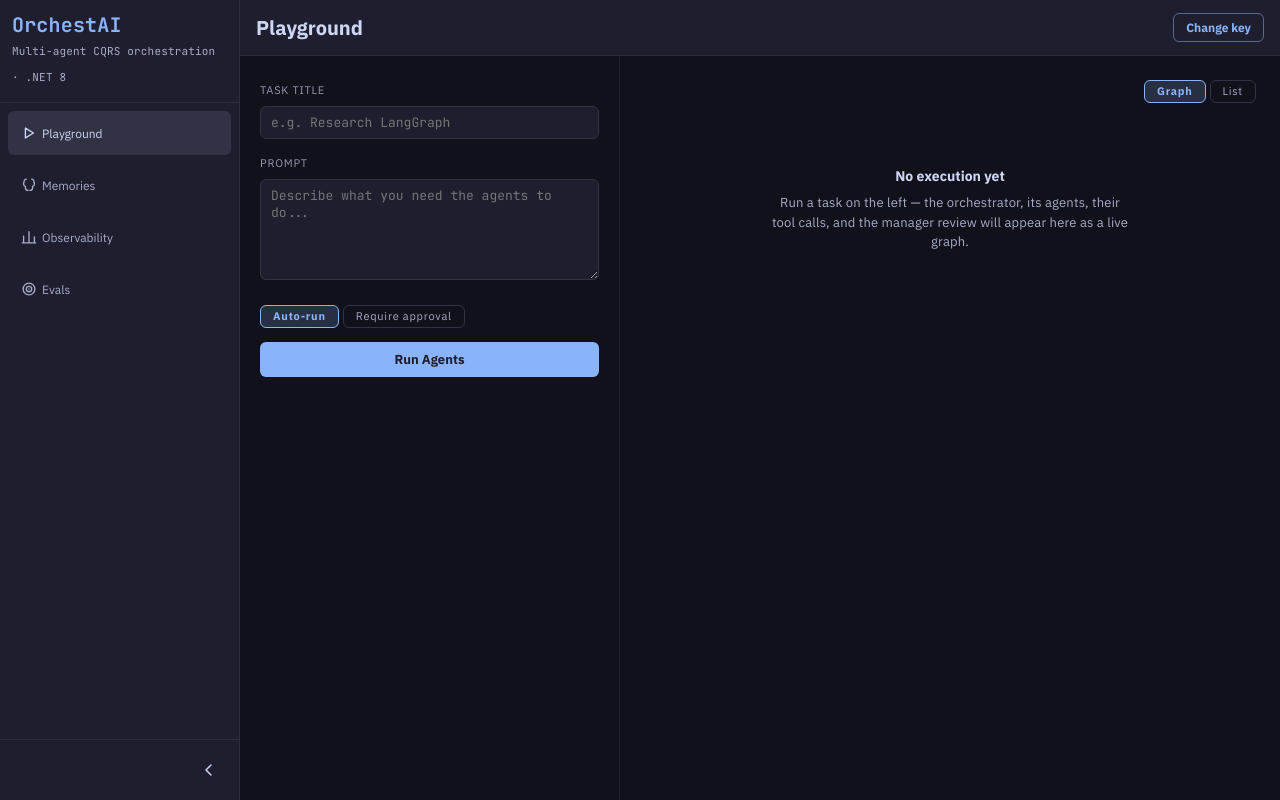
App — Playground Graph/List toggle + Observability handoff (P2-M5) › defaults to the Graph view and toggles to the List result view (state preserved)
expect the heading "No execution yet" is shown: met, box [895, 167, 1005, 185]
expect the text "No results yet" is not shown: met
Click the radio button labelled "List" at (1233, 92), box [1210, 80, 1256, 103]
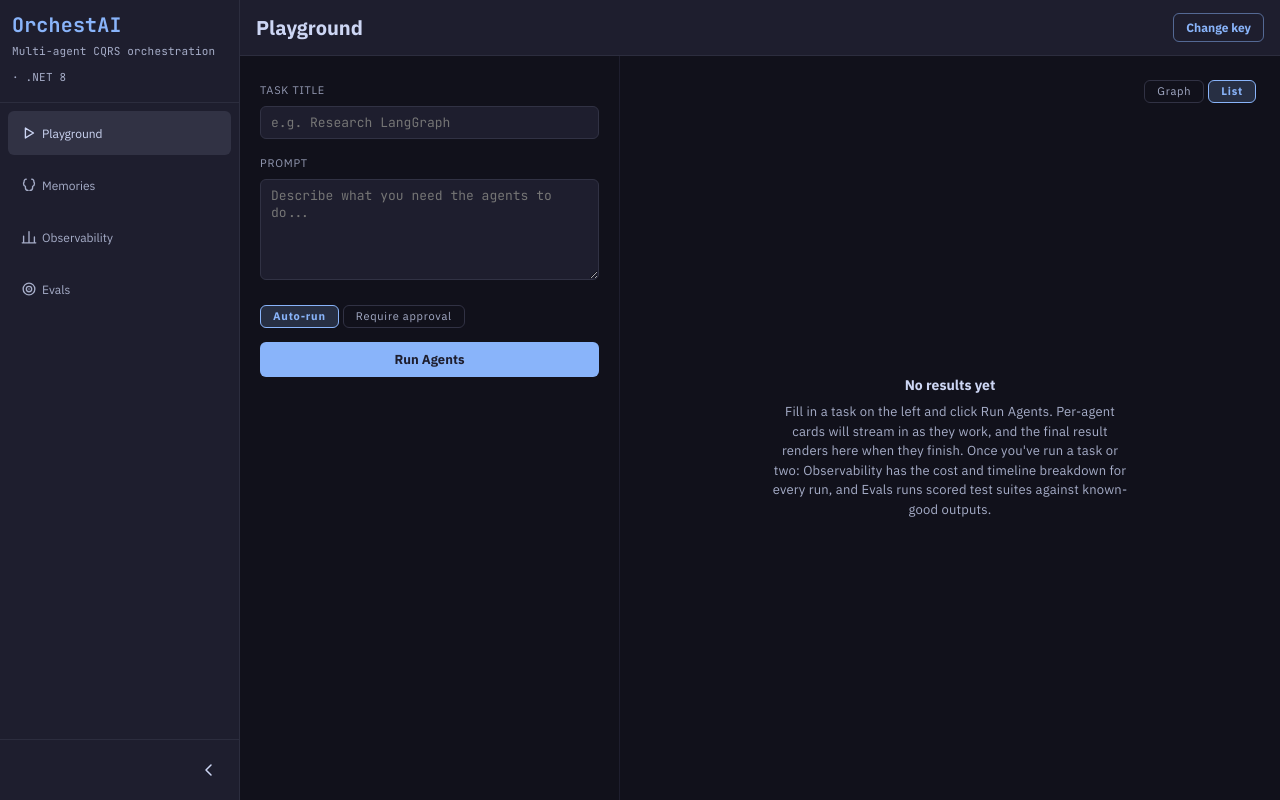
expect the heading "No results yet" is shown: met, box [905, 376, 995, 394]
expect the heading "No execution yet" is gone: met
Click the radio button labelled "Graph" at (1174, 92), box [1144, 80, 1204, 103]
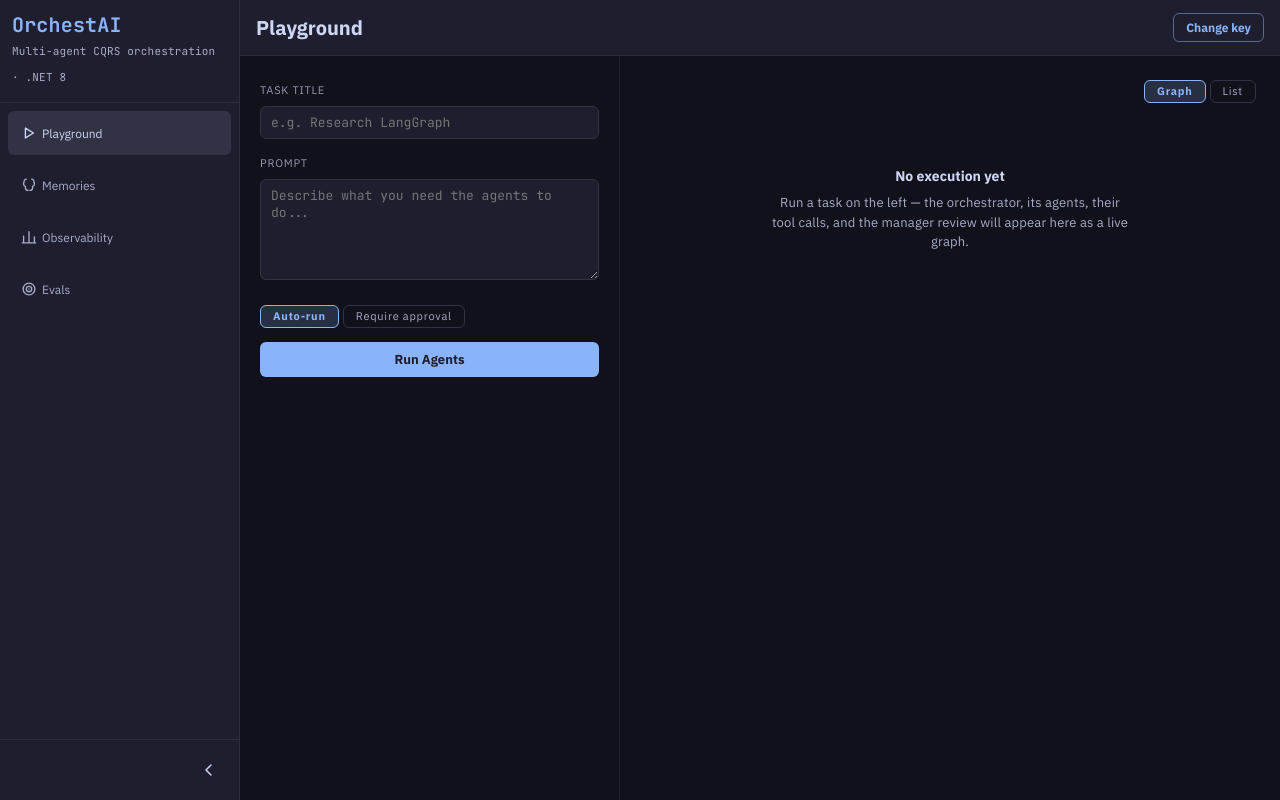
expect the heading "No execution yet" is shown: met, box [895, 167, 1005, 185]
